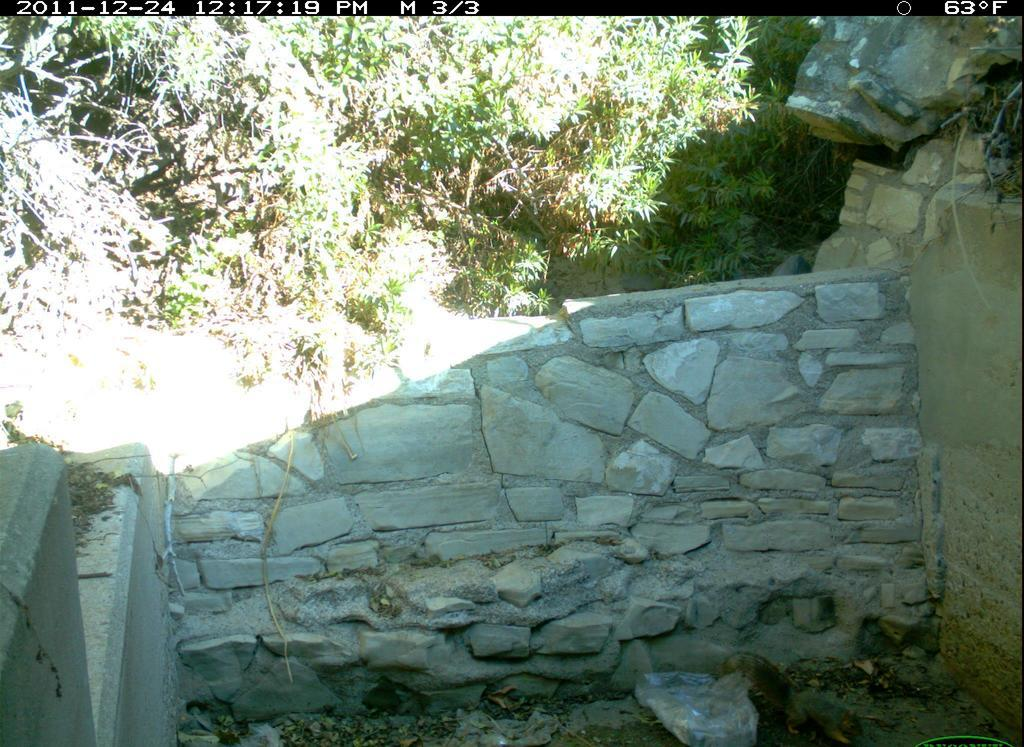squirrel: (721, 644, 873, 747)
